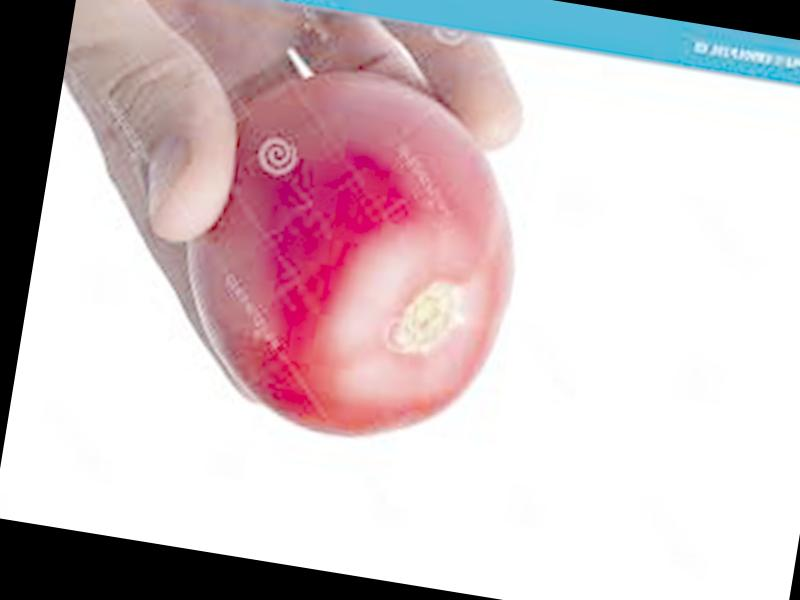Tomato: (160, 51, 539, 458)
